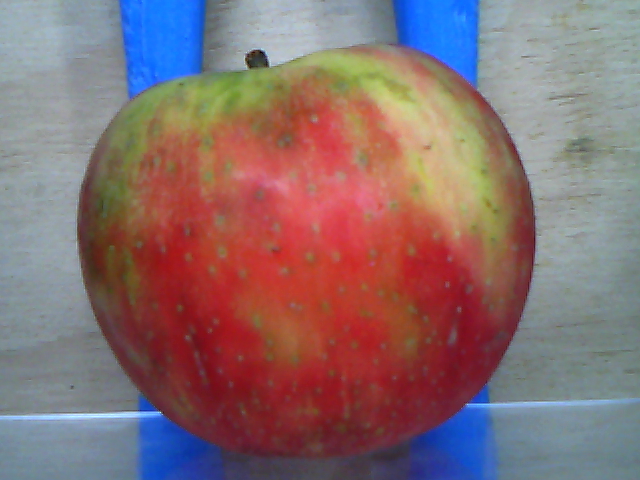stem: (244, 47, 270, 69)
